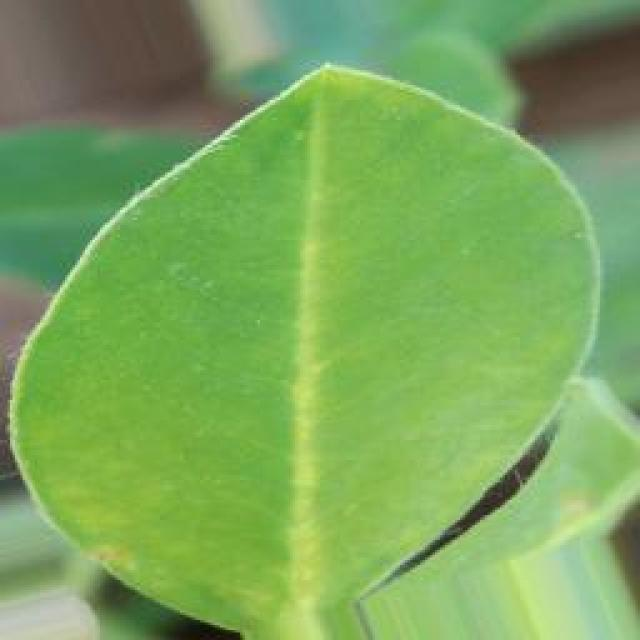Yellow_and_black_sigatoka: (5, 65, 599, 640)
